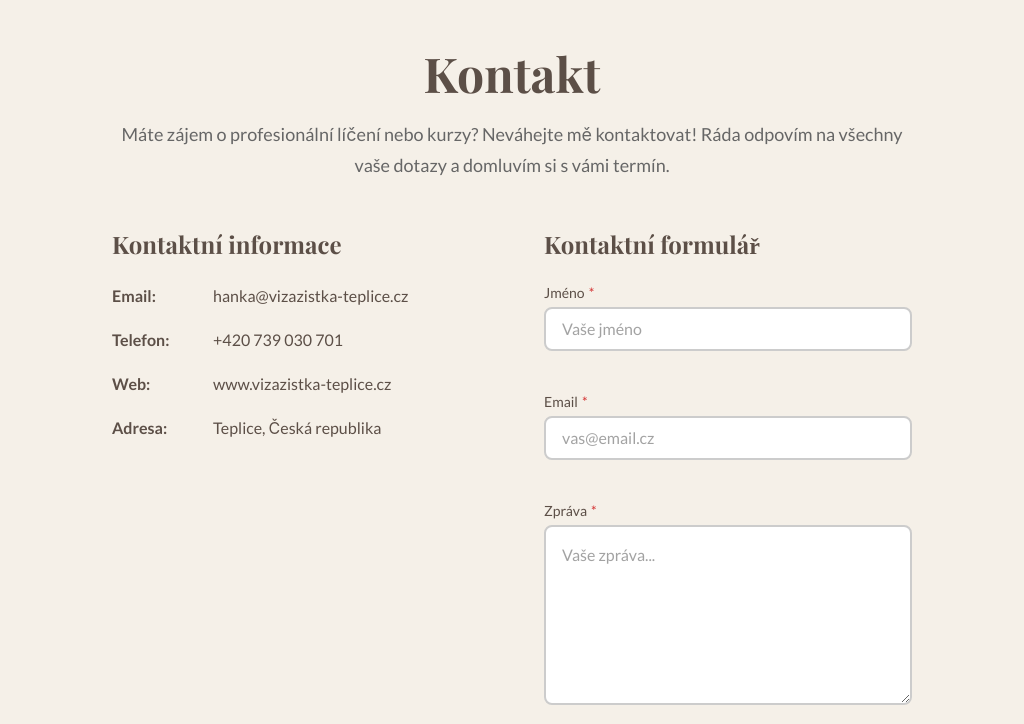
Test case: ContactPage Component › should display error message when submission fails
// Fill in the form
Type "Jan Novák" into the field with placeholder "Vaše jméno" at (728, 329), box [544, 307, 912, 351]
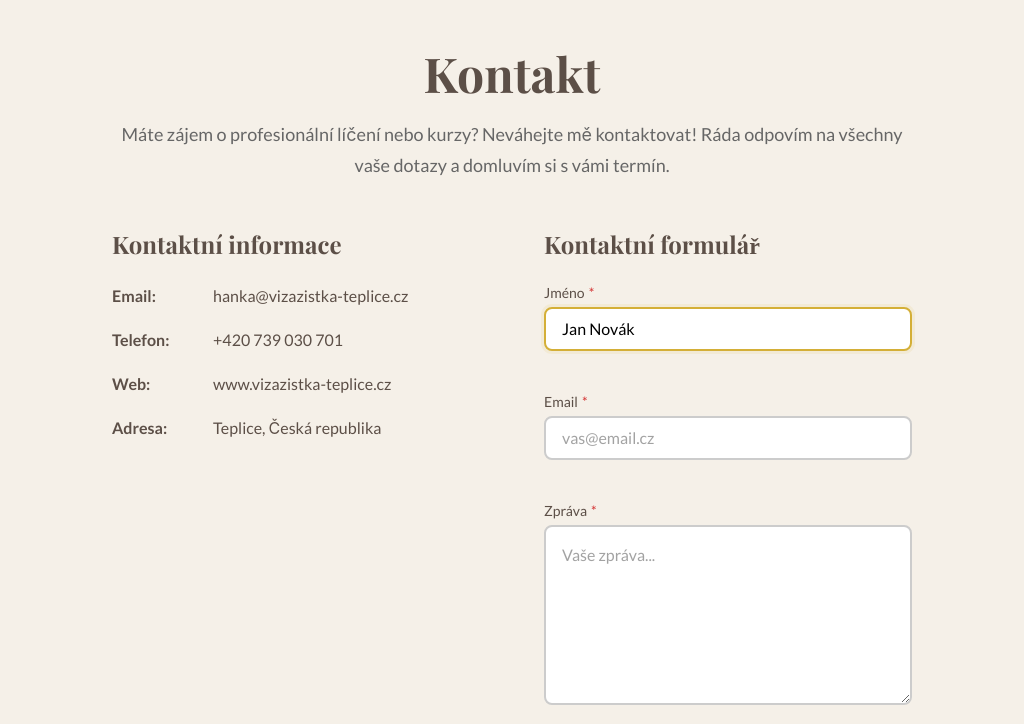
Type "jan@example.com" into the field with placeholder "vas@email.cz" at (728, 438), box [544, 416, 912, 460]
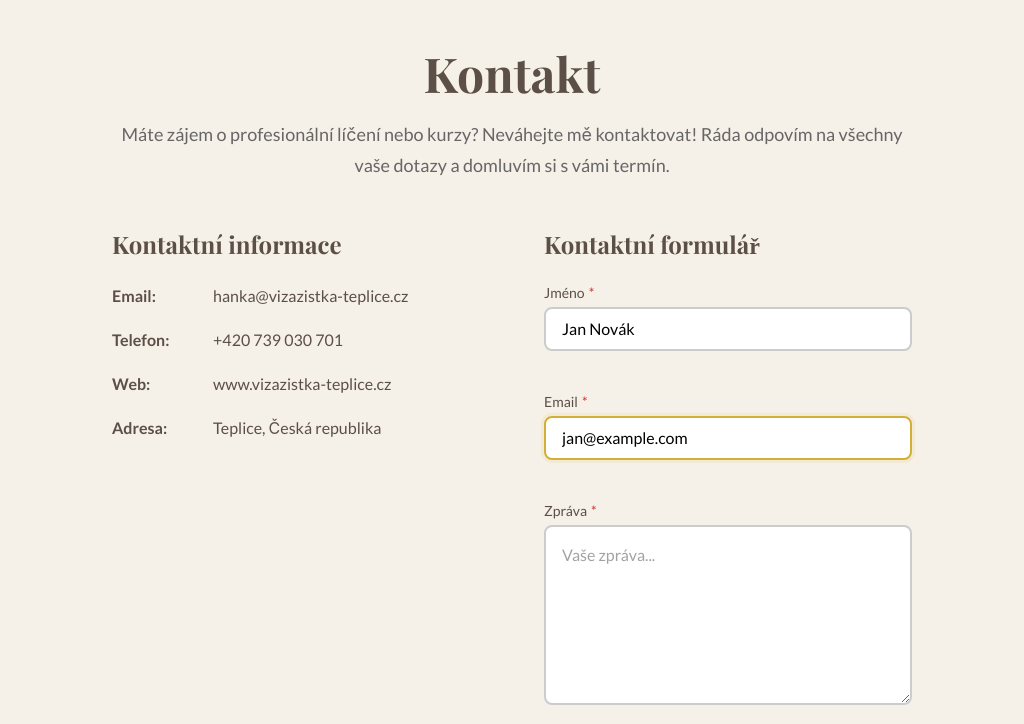
Type "Test zpráva" into the text box with placeholder "Vaše zpráva..." at (728, 615), box [544, 525, 912, 705]
(page scrolled)
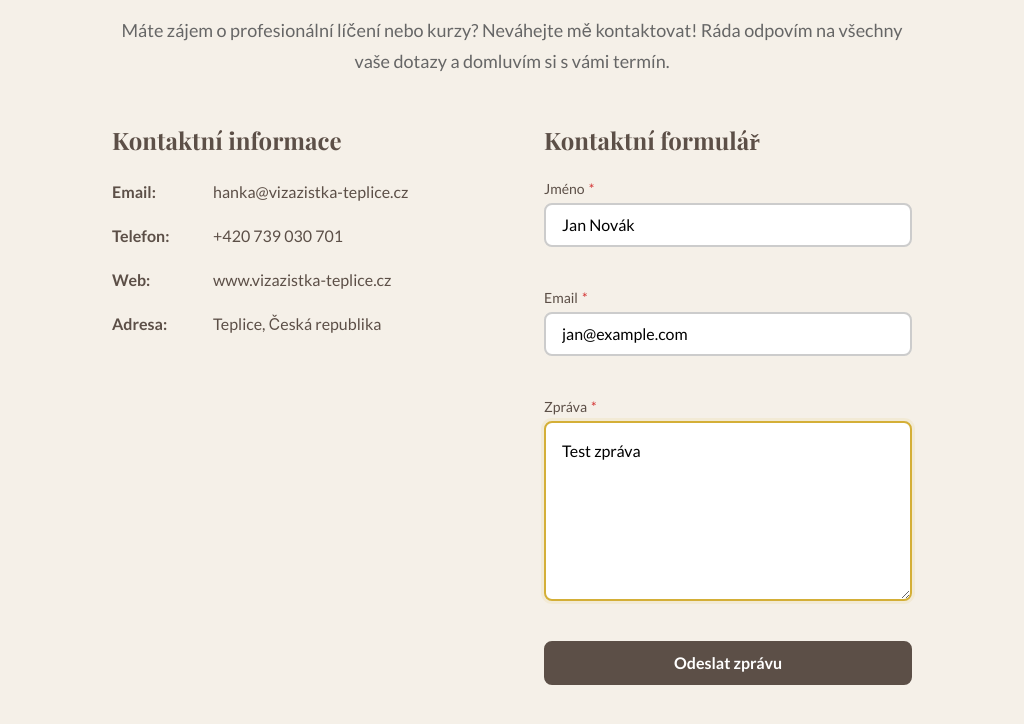
Click the button "Odeslat zprávu" at (728, 663), box [544, 641, 912, 685]
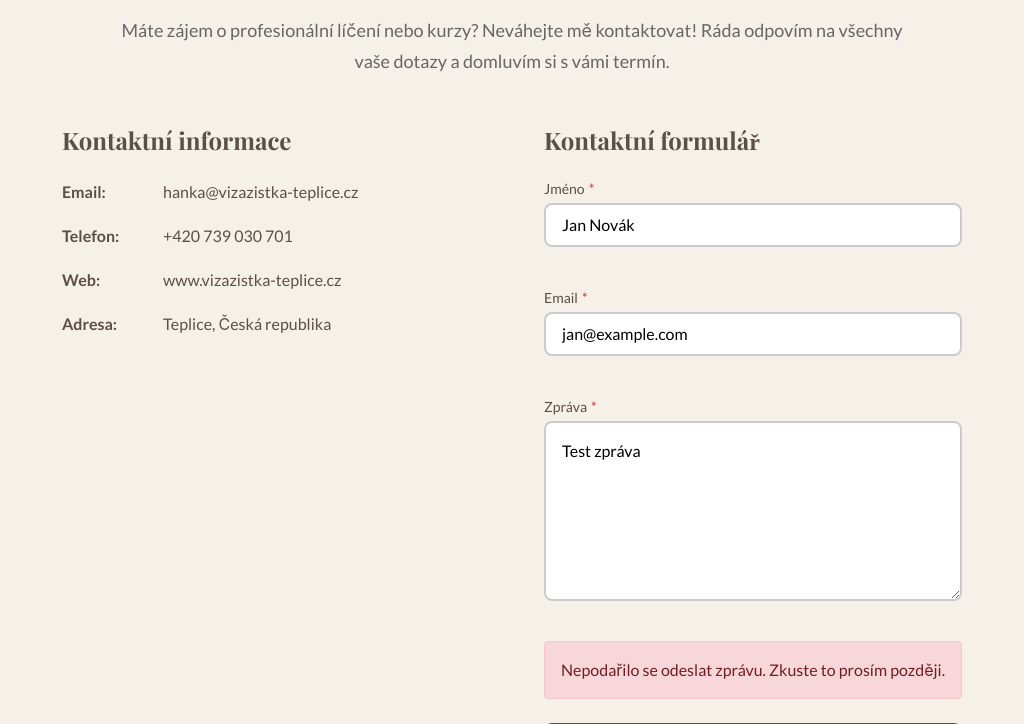
Result: the text "Nepodařilo se odeslat zprávu. Zkuste to prosím později." is shown at [544, 641, 962, 699]
